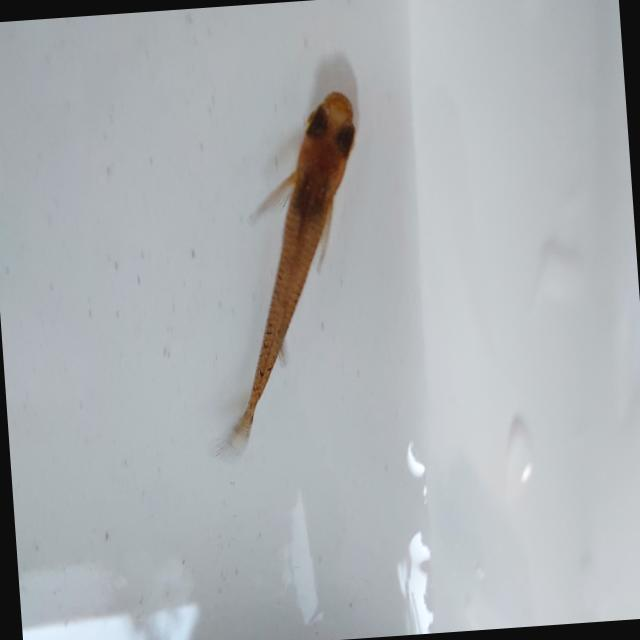Sivrisinek Baligi: (190, 63, 392, 462)
